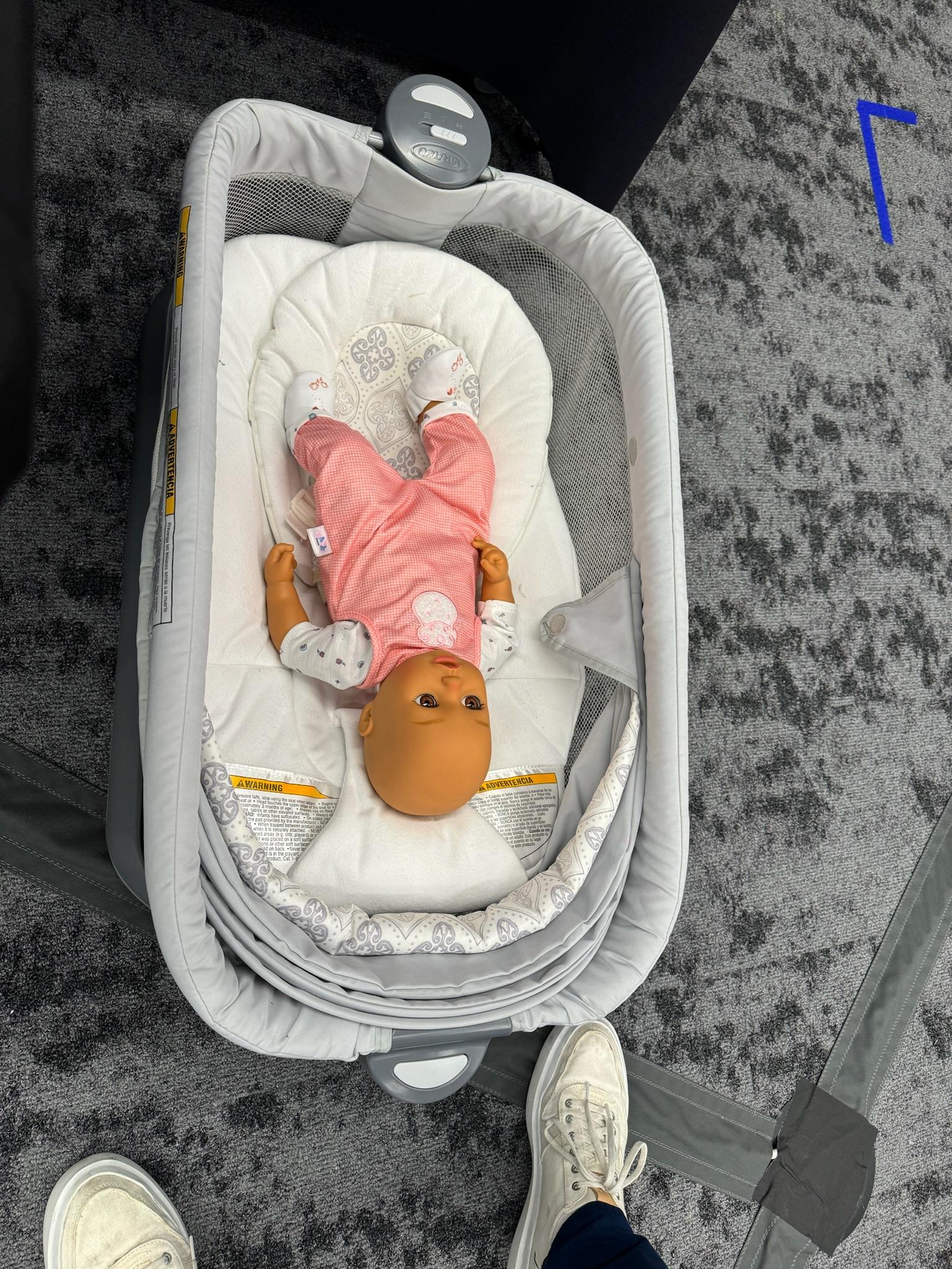baby: (259, 344, 528, 820)
